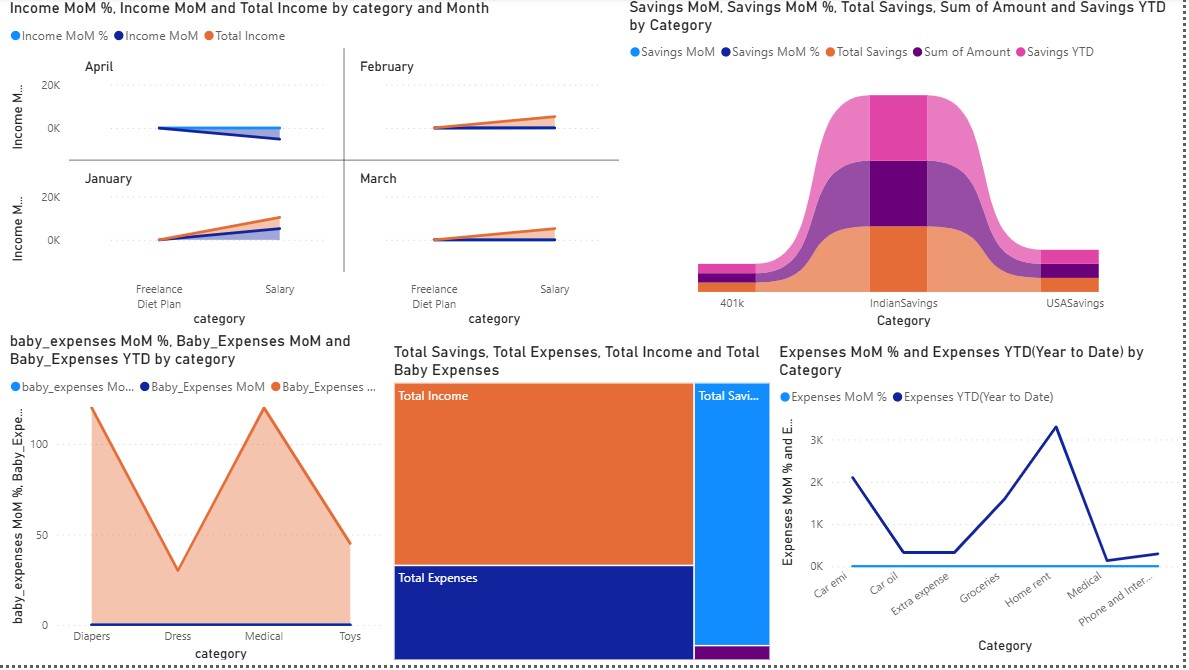

This screenshot's page, from the dashboard's own definition file:
{"tool":"powerbi","page":{"name":"Chart","canvas":[1280,720],"ordinal":4},"visuals":[{"type":"lineChart","fields":{"Category":["Expenses.Category"],"Y":["Expenses.Expenses MoM %","Expenses.Expenses YTD(Year to Date)"]},"box":[839.7,372.1,440.1,339.8],"z":0},{"type":"areaChart","fields":{"Category":["baby_expenses.category"],"Y":["baby_expenses.baby_expenses MoM %","baby_expenses.Baby_Expenses MoM","baby_expenses.Baby_Expenses YTD"]},"box":[9.7,360.8,414.2,359.2],"z":1},{"type":"stackedAreaChart","fields":{"Category":["Income.category"],"Y":["Calendar.Income MoM %","Calendar.Income MoM","Calendar.Total Income"],"Rows":["Calendar.Month"]},"box":[9.7,1.6,668.2,359.2],"z":2},{"type":"ribbonChart","fields":{"Category":["Savings.Category"],"Y":["Savings.Savings MoM","Savings.Savings MoM %","Savings.Total Savings","Sum(Savings.Amount)","Savings.Savings YTD"]},"box":[677.9,0,601.9,360.8],"z":3},{"type":"treemap","fields":{"Values":["Savings.Total Savings","Expenses.Total Expenses","Calendar.Total Income","baby_expenses.Total Baby Expenses"]},"box":[423.9,372.1,415.8,347.9],"z":4}]}

Visuals, with their boxes in screenshot pixels (x1, y1, x2, y2), scaled from the page's 1280x720 canvas onto the 1189x670 screenshot:
lineChart - Expenses.Category x Expenses.Expenses MoM %: <bbox>780, 346, 1188, 662</bbox>
areaChart - baby_expenses.category x baby_expenses.baby_expenses MoM %: <bbox>9, 336, 394, 669</bbox>
stackedAreaChart - Income.category x Calendar.Income MoM %: <bbox>9, 1, 630, 336</bbox>
ribbonChart - Savings.Category x Savings.Savings MoM: <bbox>630, 0, 1188, 336</bbox>
treemap - Savings.Total Savings x Expenses.Total Expenses: <bbox>394, 346, 780, 669</bbox>
